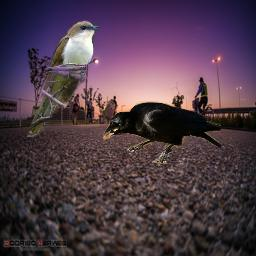Crow: (102, 101, 221, 164)
Cuckoo: (26, 19, 99, 137)
